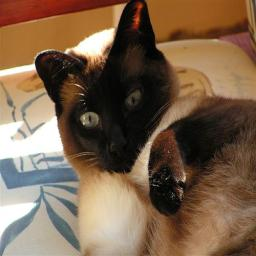catnose: (108, 136, 128, 160)
